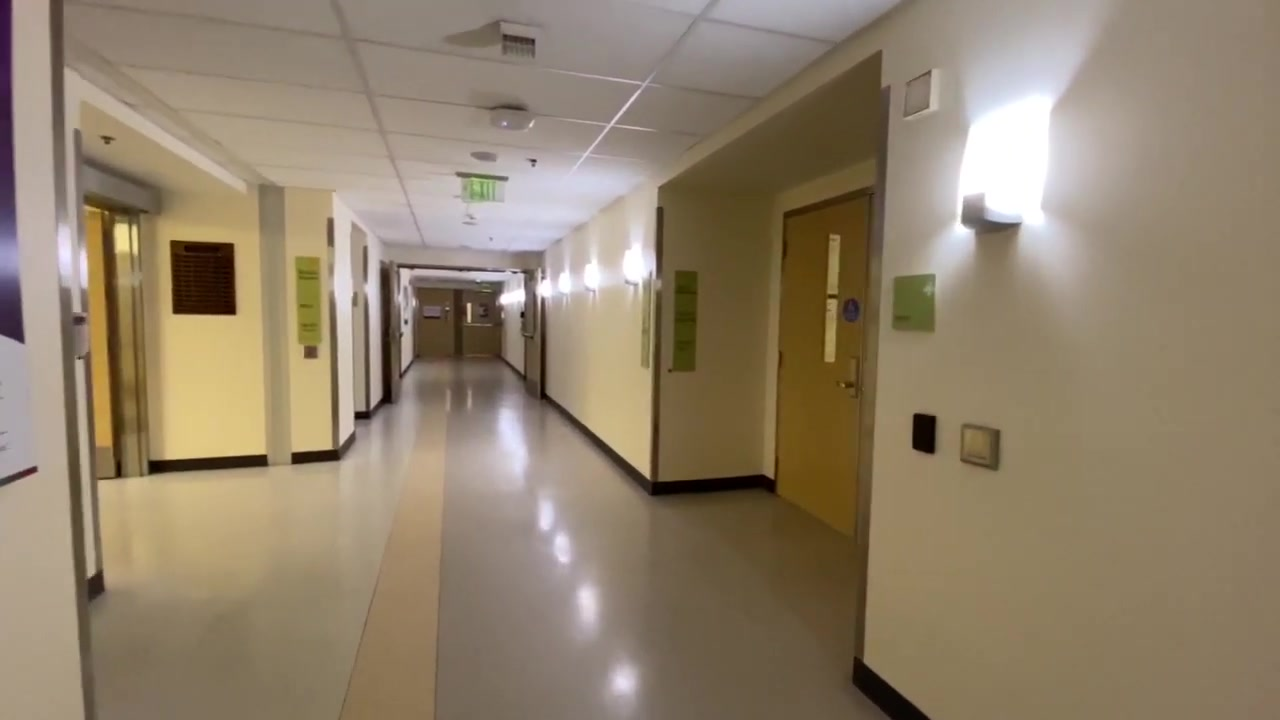door_handle: (834, 378, 853, 390)
press_to_open: (959, 422, 1000, 471), (299, 344, 323, 360)
push_latch: (463, 322, 495, 328)
